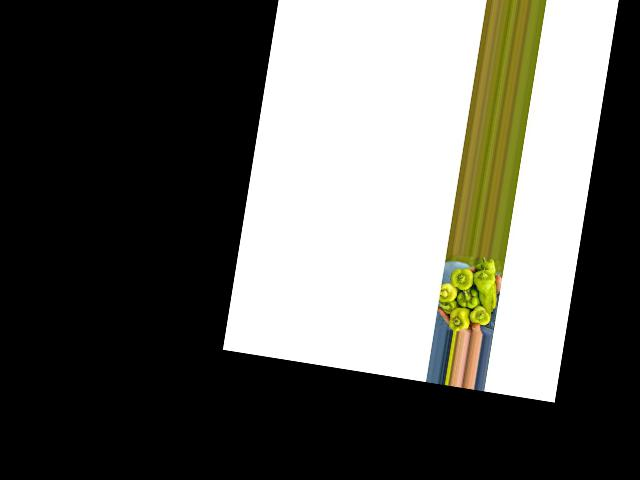bell_pepper: (445, 304, 470, 332)
